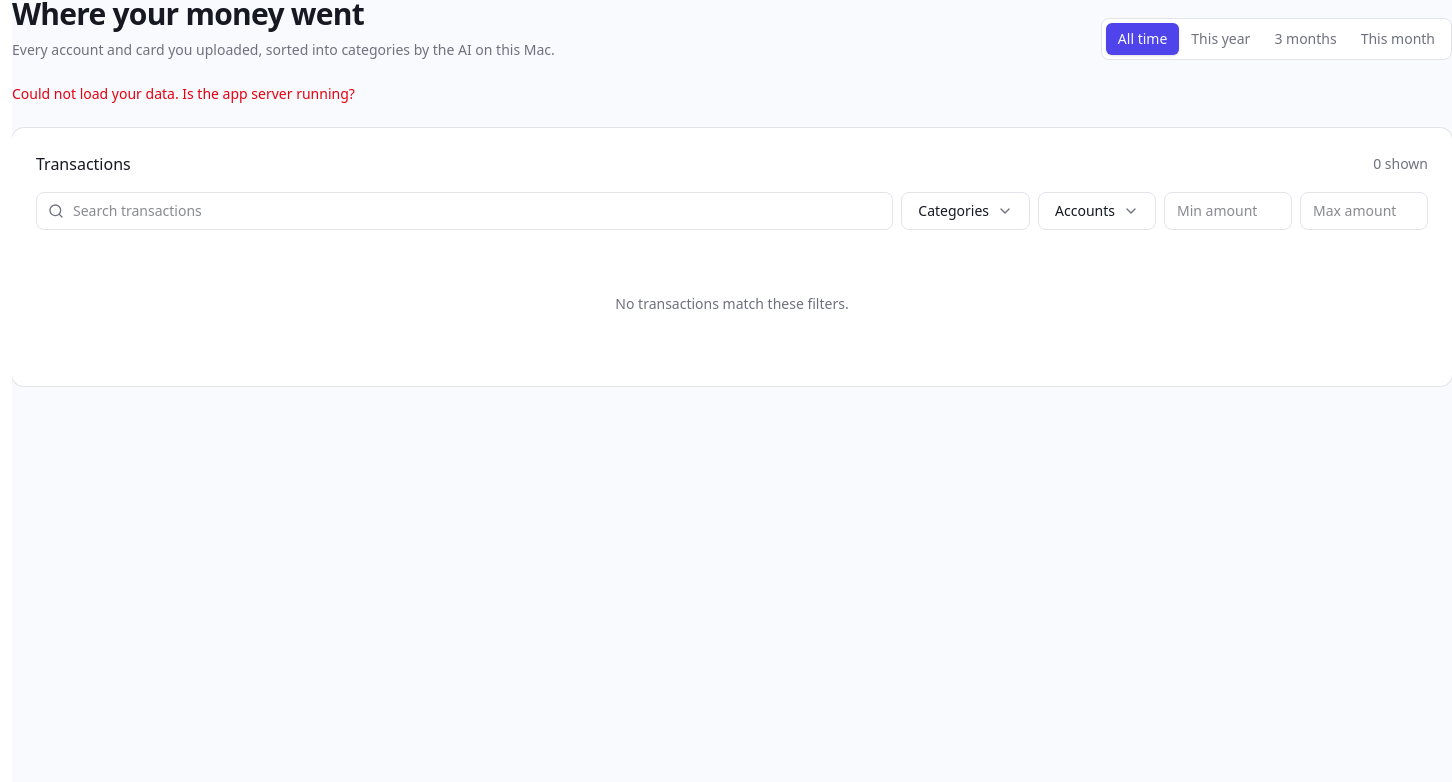
Test: a load error goes away once the data loads again
Expected: the message shows "Could not load your data", [12,84,355,103]
Click the button "This year" at (1221, 39), box [1179,23,1262,55]
(page scrolled)
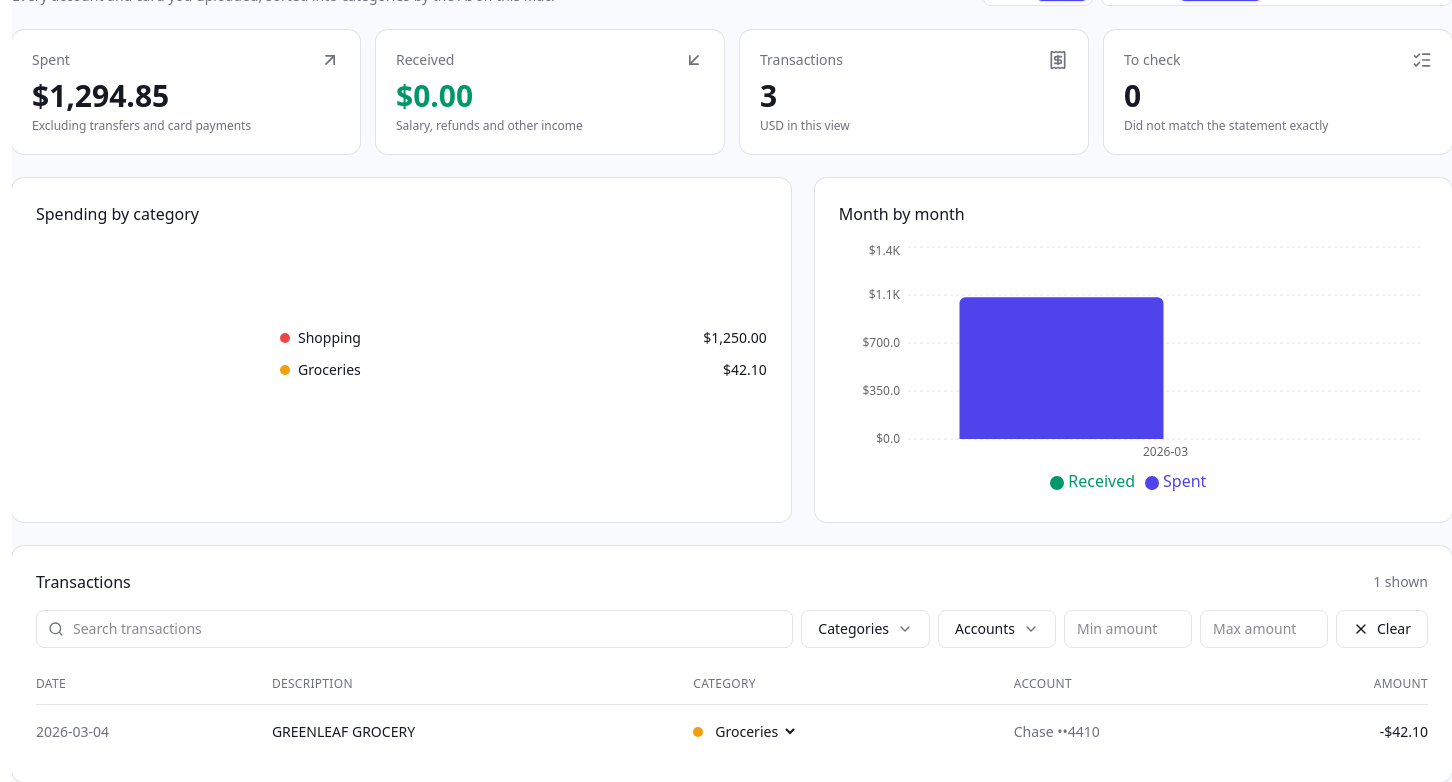
Expected: the text "GREENLEAF GROCERY" is shown, [272,722,415,740]
Expected: the message "Could not load your data. Is the app server running?" is gone
